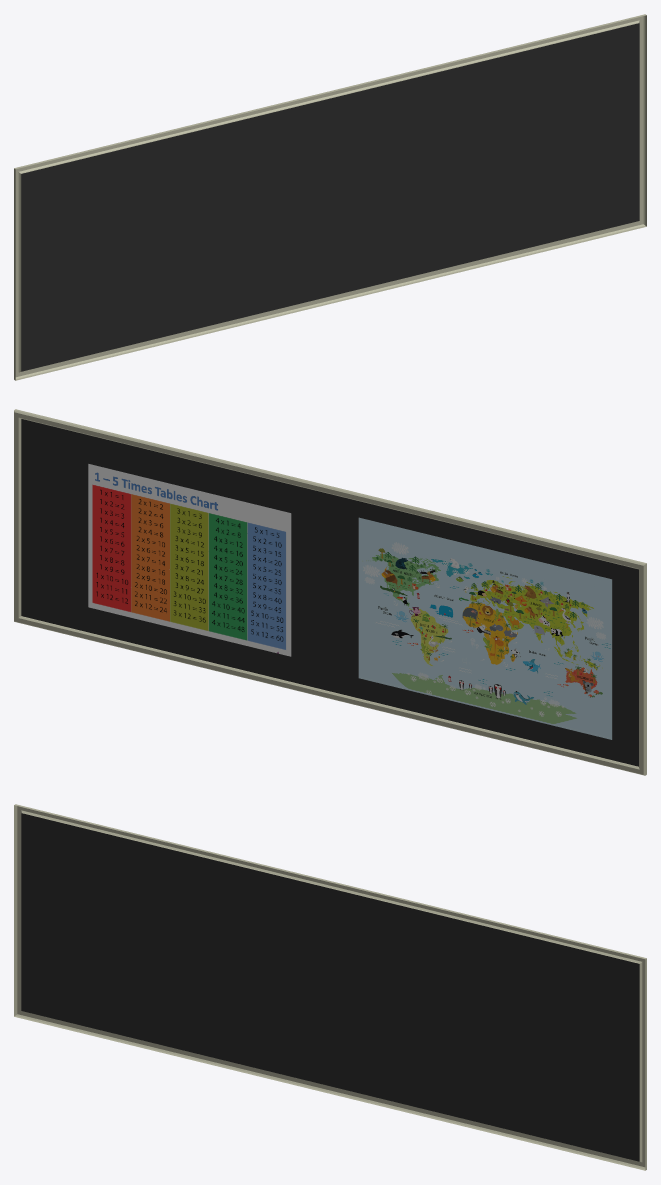
Rendered from BackBoard-F.fbx.
3 views of the same model, one above another, from view 1: azimuth 30°, elevation 25°; view 2: azimuth 150°, elevation 25°; view 3: azimuth 330°, elevation 25° (orthographic).
Parts seen in each view (by area): view 1: corkboard; view 2: corkboard; view 3: corkboard.
Part boxes in pixels (x1,y1,x2,y2): corkboard: (14, 14, 646, 380); corkboard: (14, 409, 646, 775); corkboard: (14, 804, 646, 1170).
Bounding box in the file's own units: 296 × 94.85 × 1.81.
